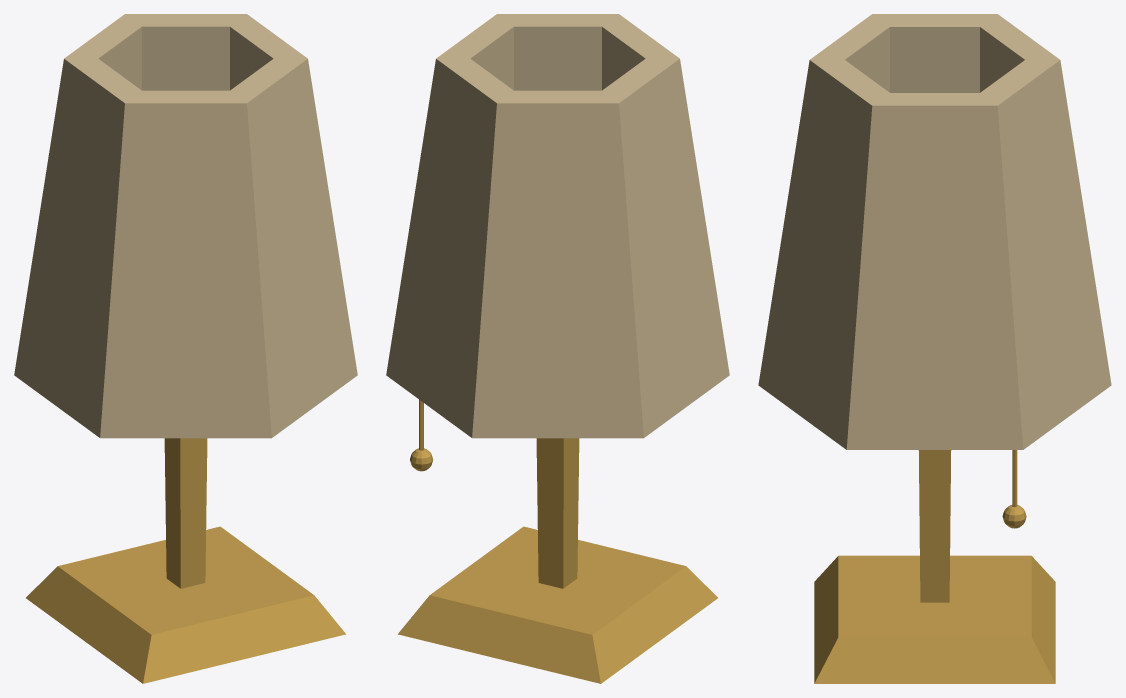
File: lampRoundTable.glb
3 views of the same model, side by side, from view 1: azimuth 30°, elevation 25°; view 2: azimuth 150°, elevation 25°; view 3: azimuth 270°, elevation 25° (orthographic). The views are drawn at different scales.
Visible parts, largest first — view 1: lampRoundTable(Clone); view 2: lampRoundTable(Clone); view 3: lampRoundTable(Clone).
Boxes of the visible parts, bbox=[...] form: lampRoundTable(Clone): bbox=[14, 14, 357, 683]; lampRoundTable(Clone): bbox=[386, 14, 729, 683]; lampRoundTable(Clone): bbox=[758, 14, 1111, 683].
Bounding box in the file's own units: 0.152 × 0.3142 × 0.1756.
